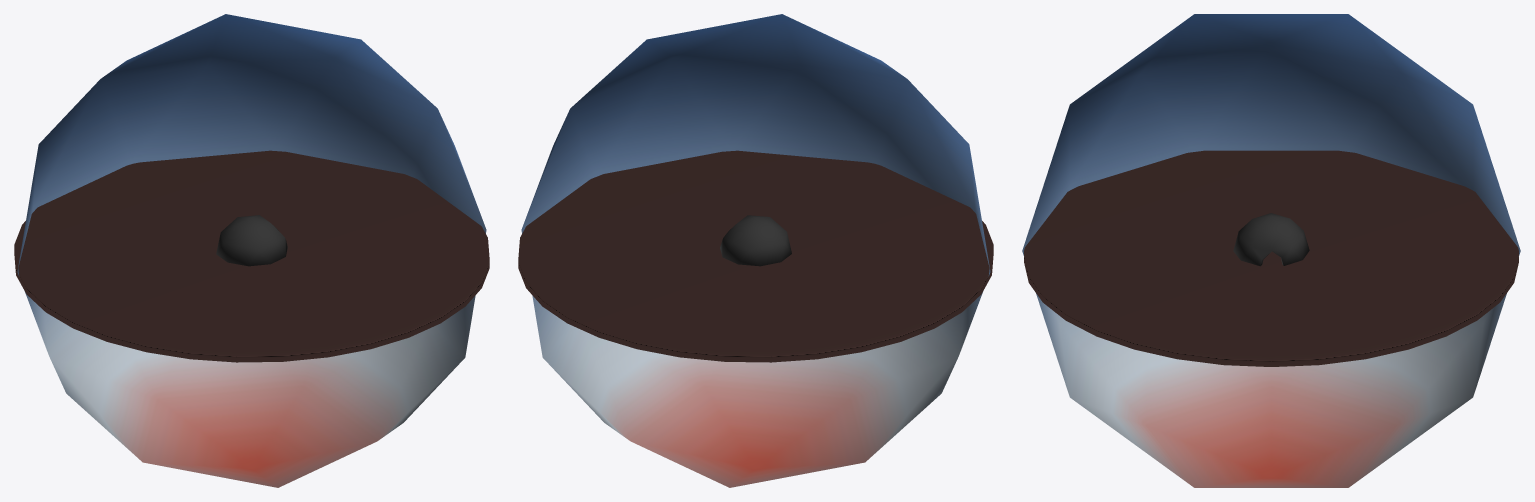
3 renders of one model, left to right at view 1: azimuth 30°, elevation 25°; view 2: azimuth 150°, elevation 25°; view 3: azimuth 270°, elevation 25°, orthographic. The views are drawn at different scales.
Visible parts, largest first — view 1: envirosphere.007, ground.009, lodge.007; view 2: envirosphere.007, ground.009, lodge.007; view 3: envirosphere.007, ground.009, lodge.007.
Part boxes in pixels (x1,y1,x2,y2): envirosphere.007: (17, 14, 486, 487); ground.009: (14, 150, 489, 362); lodge.007: (216, 215, 287, 266); envirosphere.007: (521, 14, 990, 487); ground.009: (518, 150, 993, 362); lodge.007: (720, 215, 791, 266); envirosphere.007: (1022, 14, 1520, 487); ground.009: (1024, 150, 1518, 366); lodge.007: (1233, 213, 1309, 266).
Bounding box in the file's own units: 13.58 × 13.69 × 13.69.
4 materials, 1 textured.
